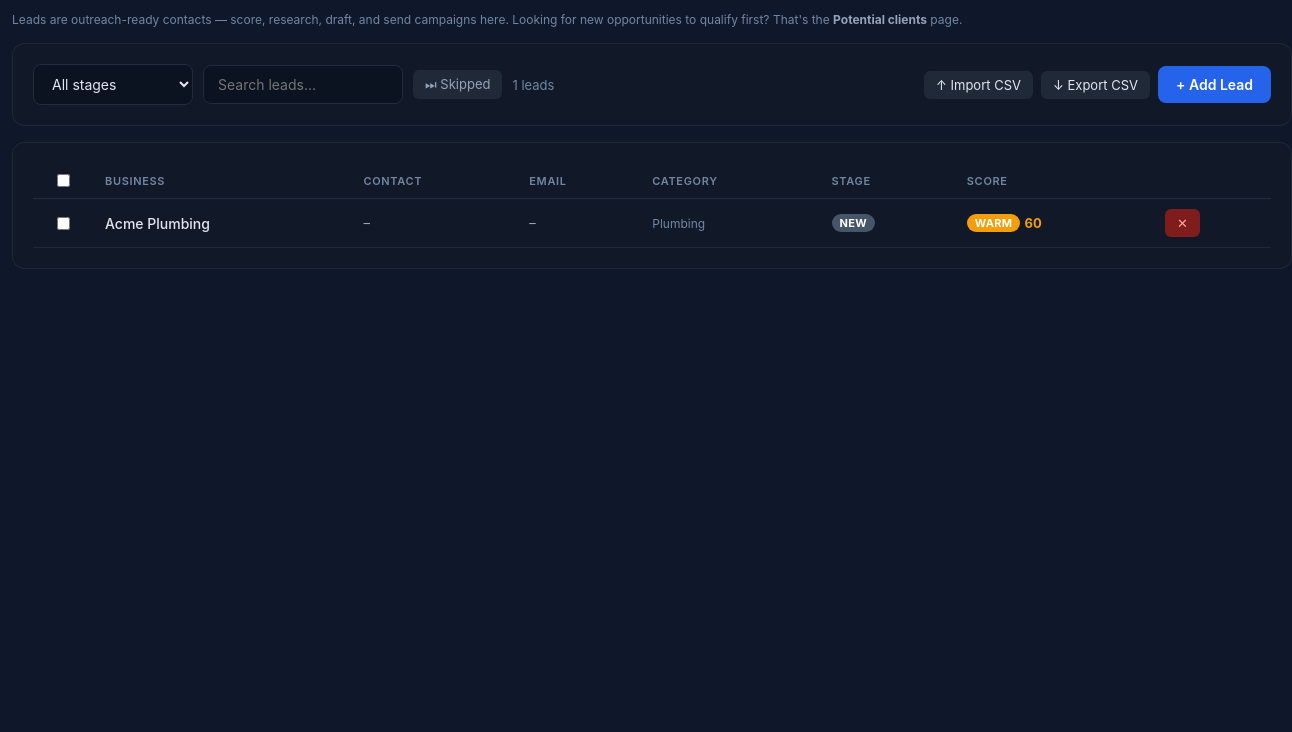
it: Leads › the Add Lead button reveals the new-lead form
The width and height of the screenshot is (1292, 732).
Check: the text "Acme Plumbing" is shown, box x1=105 y1=214 x2=210 y2=232
Check: the text "New Lead" is not shown
Click the button "+ Add Lead" at (1214, 84), box x1=1158 y1=66 x2=1271 y2=103
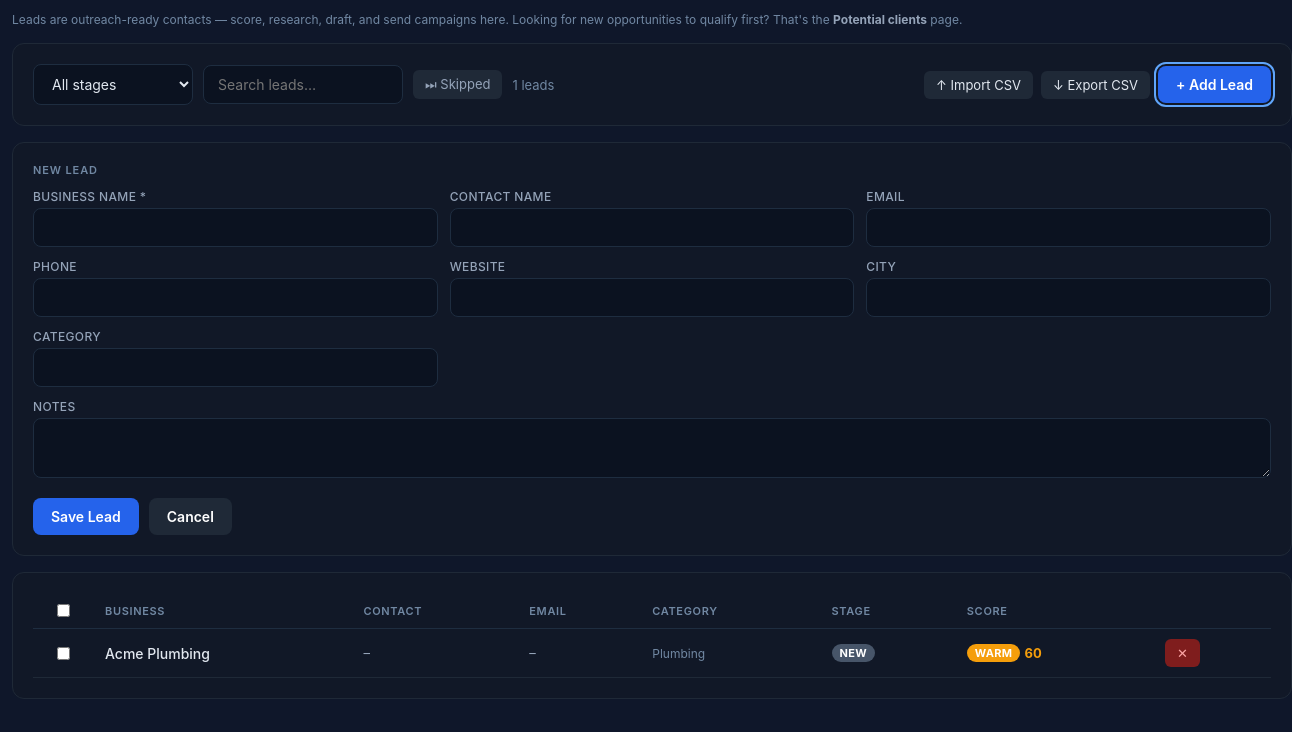
Check: the text "New Lead" is shown, box x1=33 y1=163 x2=98 y2=177
